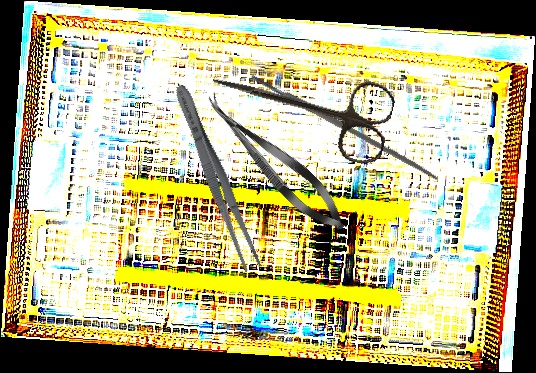Dressing Forceps: (168, 81, 265, 274)
Iris Scissors: (201, 44, 399, 168)
Micro Scissor: (194, 84, 356, 242)
Scalpel Handle: (249, 70, 440, 183)
